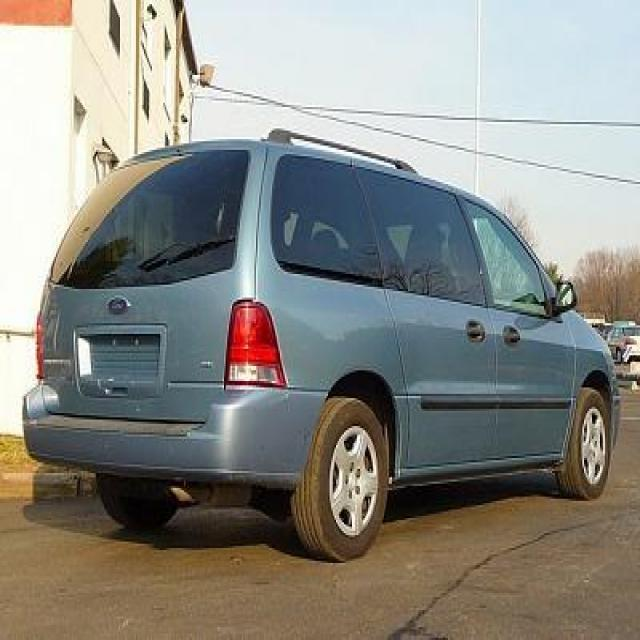car: (21, 127, 620, 563)
